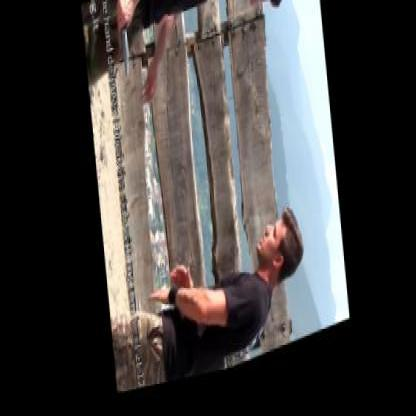knife: (114, 0, 137, 91)
